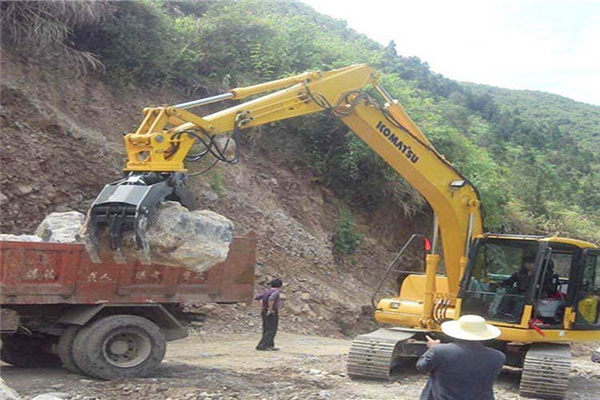excavator: (91, 55, 600, 400)
